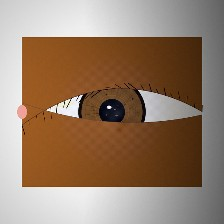pinguecula_lesion: (35, 83, 86, 124)
